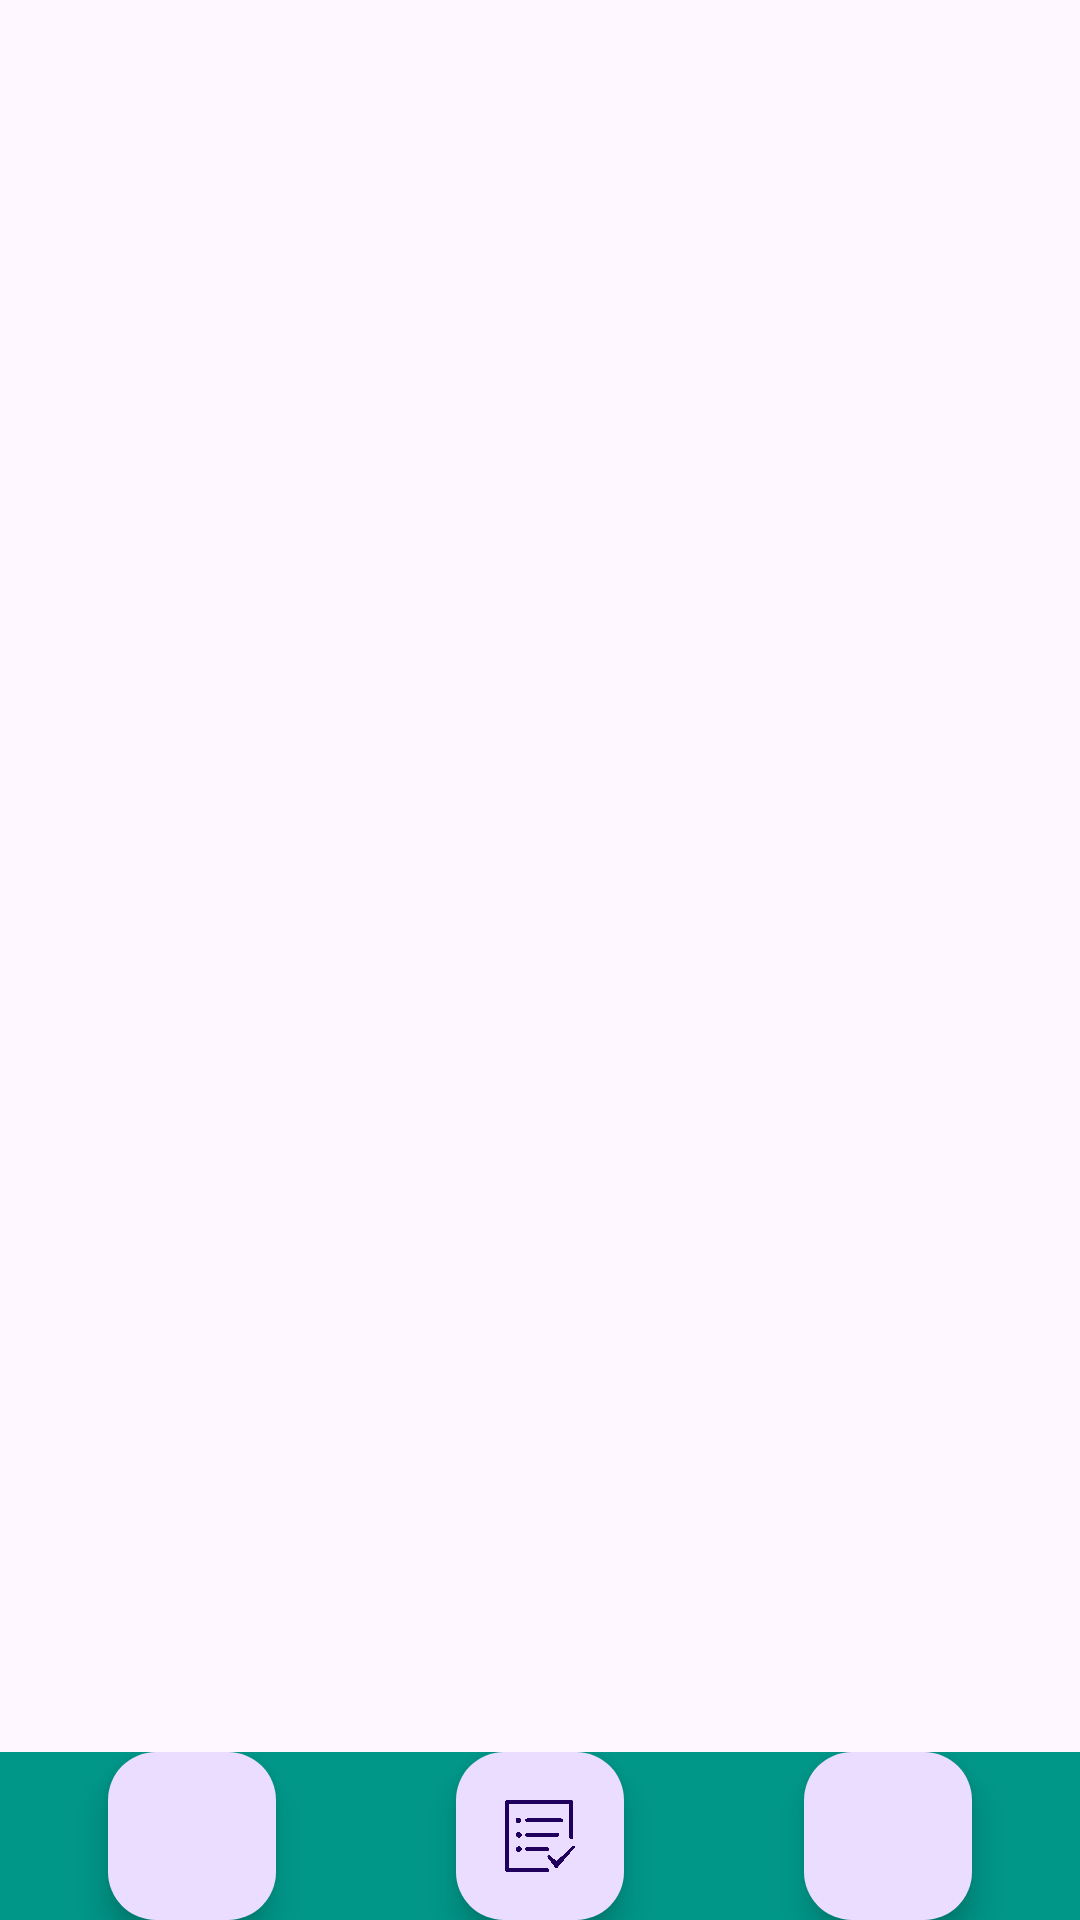

Icons on this 1080 x 1920 Android screen, each with the point to tap as (x=x, y=y):
questionnaire: (x=540, y=1836)
